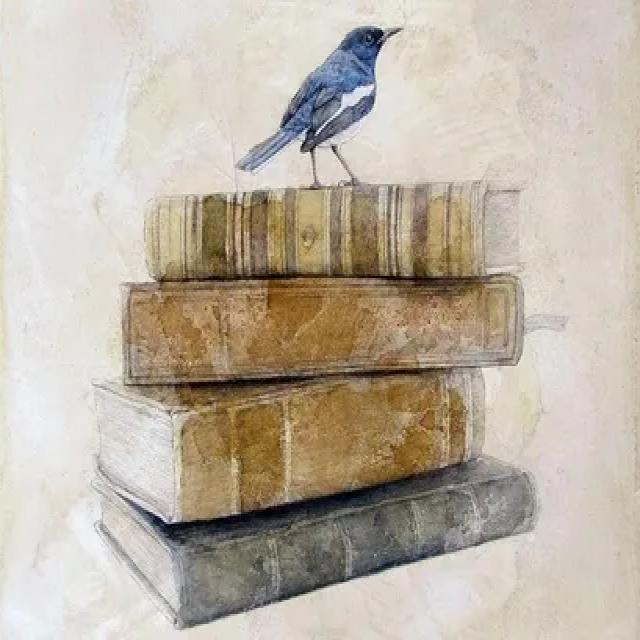book: (71, 376, 513, 507), (135, 162, 527, 285)
